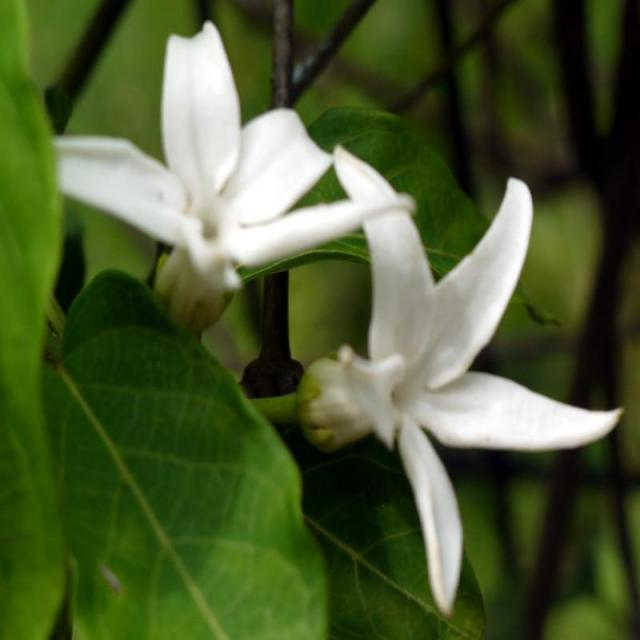organic waste: (311, 164, 613, 609), (56, 40, 409, 370)
